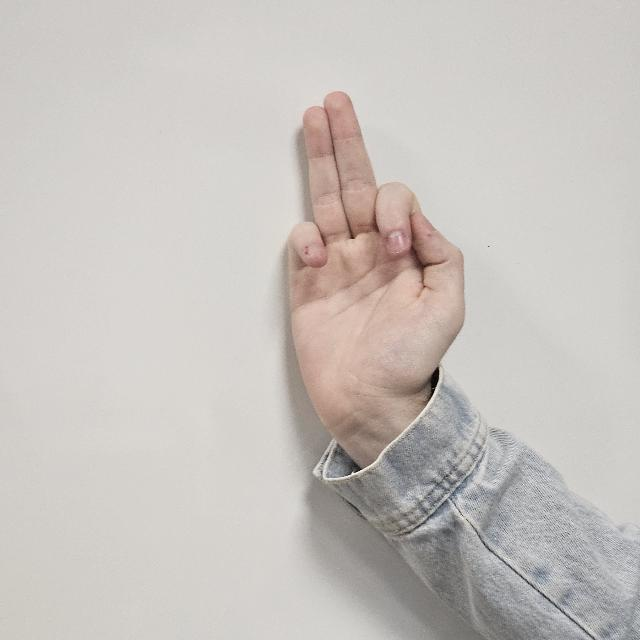R: (283, 97, 475, 456)
